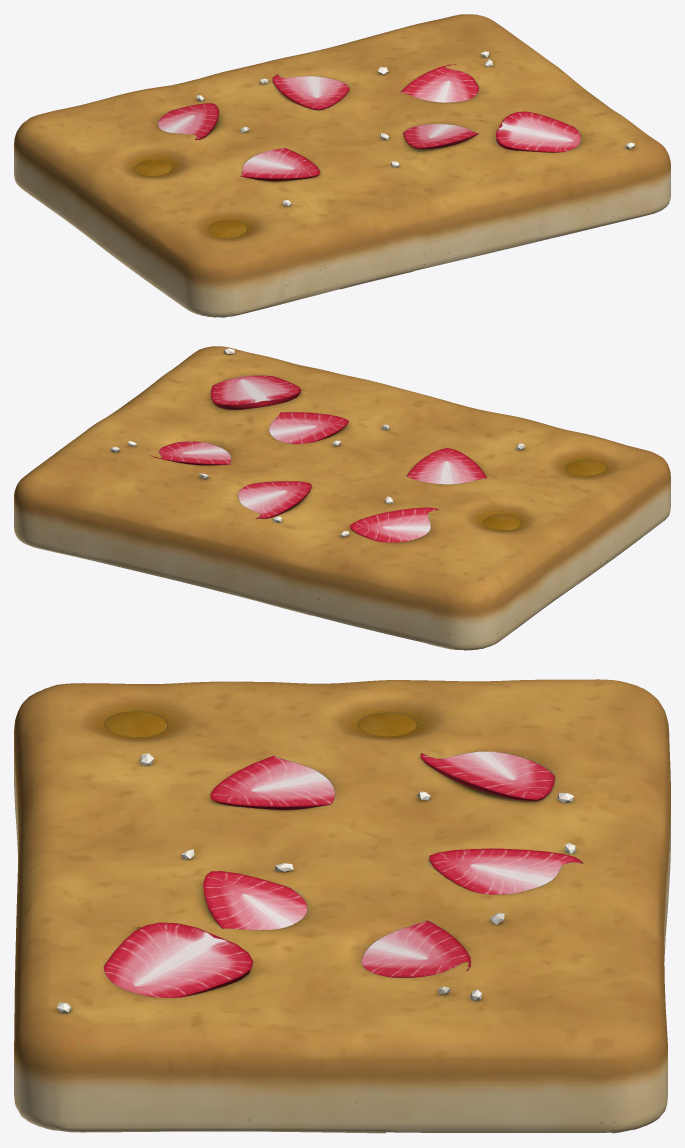
The model's file is focaccia--strawberry-fresh.glb.
3 views of the same model, one above another, from view 1: azimuth 30°, elevation 25°; view 2: azimuth 150°, elevation 25°; view 3: azimuth 270°, elevation 25° (orthographic). The views are drawn at different scales.
Visible parts, largest first — view 1: focaccia_strawberry-fresh; view 2: focaccia_strawberry-fresh; view 3: focaccia_strawberry-fresh.
Part boxes in pixels (left/top/right/bottom): focaccia_strawberry-fresh: left=14, top=14, right=670, bottom=317; focaccia_strawberry-fresh: left=14, top=346, right=670, bottom=650; focaccia_strawberry-fresh: left=14, top=679, right=670, bottom=1133.
Size of the model in its own units: 1.01 by 0.1338 by 0.7441.
Materials: 1 (1 with a texture image).
